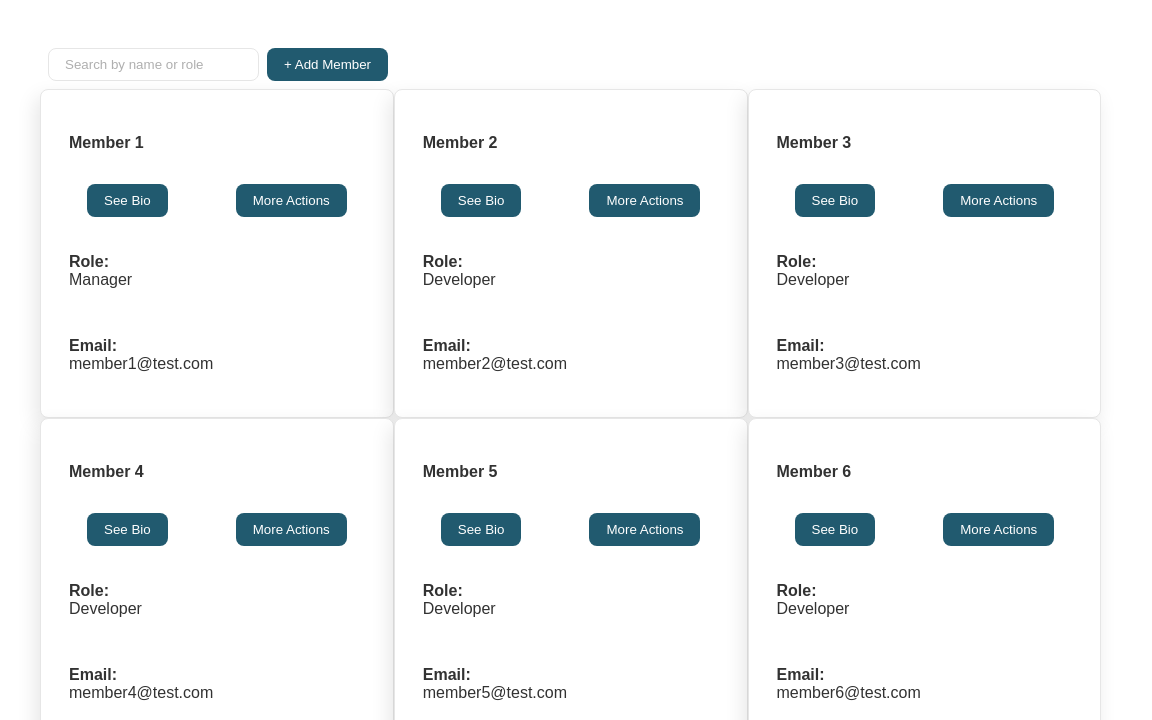
Test: Directory › filters members when searching
Expected: the heading "Member 1" is shown, [53,118,381,168]
Type "Manager" into the field with test id "searchBox". click: (154, 64)
box: [48,48,259,81]
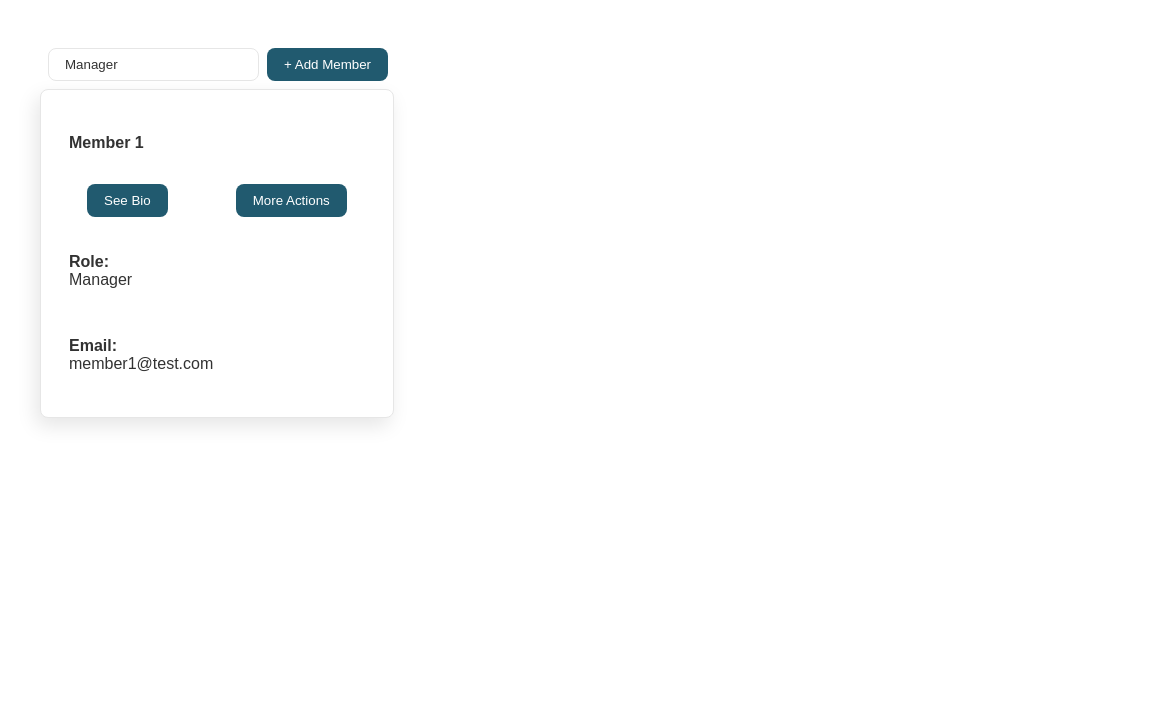
Expected: the heading "Member 1" is shown, [53,118,381,168]
Result: the heading "Member 2" is gone
